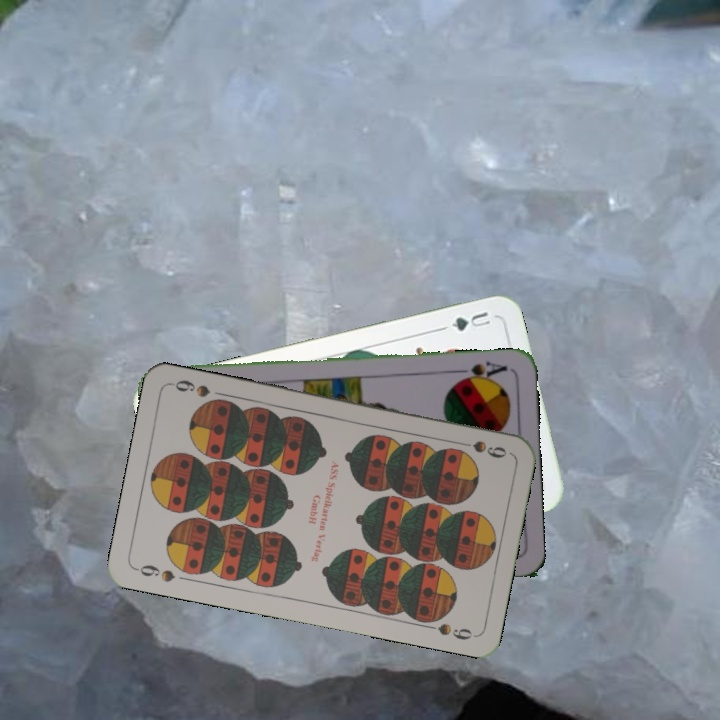GU: (447, 307, 493, 334)
S9: (452, 436, 510, 461), (131, 560, 177, 585)
SA: (452, 357, 510, 385)
